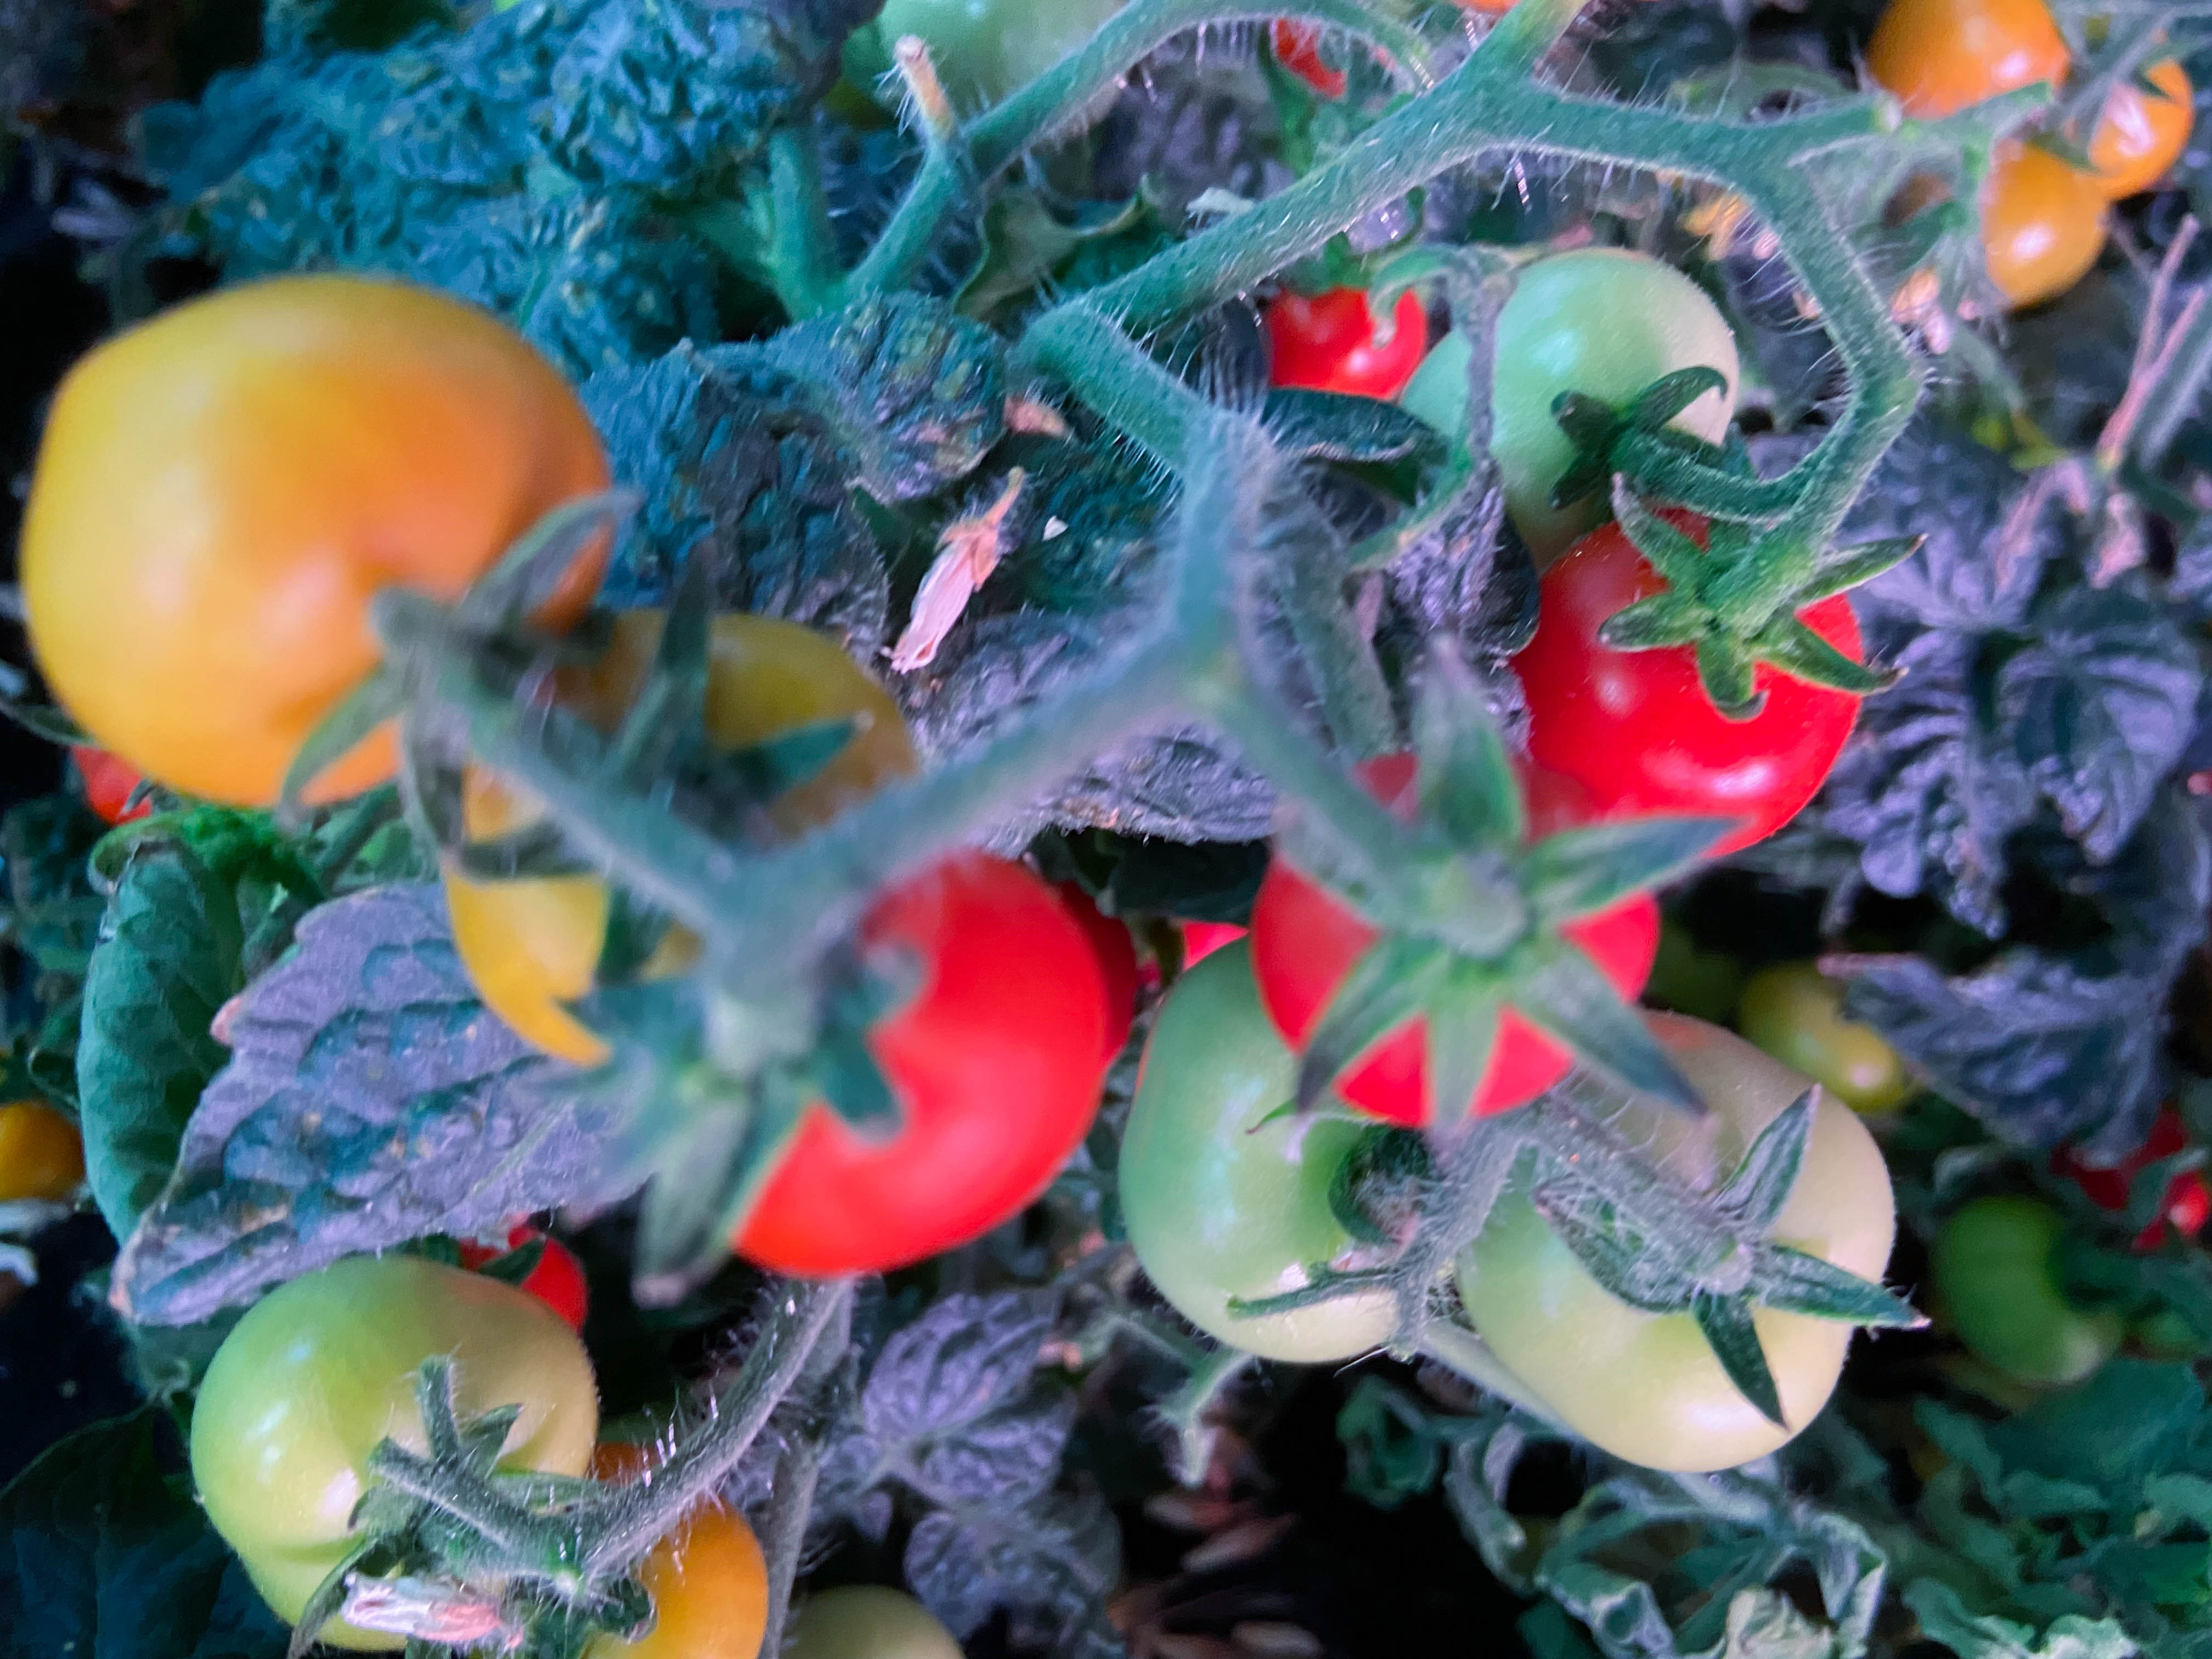green: (1449, 1007, 1886, 1473), (192, 1237, 601, 1635), (1120, 964, 1430, 1371), (1437, 247, 1745, 519), (1933, 1194, 2125, 1396), (1733, 960, 1919, 1117), (789, 1581, 972, 1659)
red: (19, 268, 629, 814), (437, 598, 979, 1117), (678, 807, 1122, 1276), (1247, 748, 1644, 1131), (1512, 504, 1862, 849), (509, 1480, 772, 1659), (1864, 0, 2094, 148), (2024, 19, 2195, 197), (2043, 1073, 2209, 1243), (1251, 267, 1432, 403), (1963, 143, 2111, 307), (1446, 0, 1575, 106), (1258, 0, 1390, 101), (0, 1089, 80, 1222), (491, 1230, 589, 1328)
